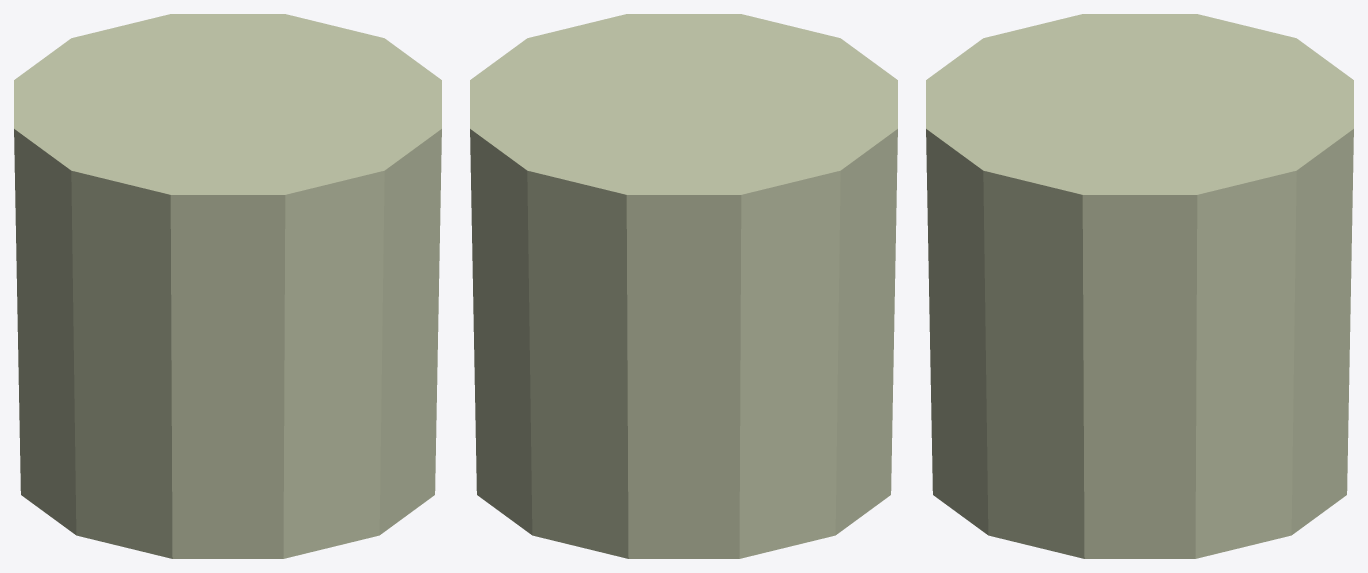
Rendered from Eridani_Engine_1_Collider.obj.
The picture shows the model from 3 angles, left to right: view 1: azimuth 30°, elevation 25°; view 2: azimuth 150°, elevation 25°; view 3: azimuth 270°, elevation 25°; orthographic projection.
Parts seen in each view (by area): view 1: Eridani_Engine_1_Collider; view 2: Eridani_Engine_1_Collider; view 3: Eridani_Engine_1_Collider.
Boxes of the visible parts, x1,y1,x2,y2 form: Eridani_Engine_1_Collider: [14, 14, 441, 558]; Eridani_Engine_1_Collider: [470, 14, 897, 558]; Eridani_Engine_1_Collider: [926, 14, 1353, 558].
Size of the model in its own units: 0.2325 by 0.22 by 0.2325.
